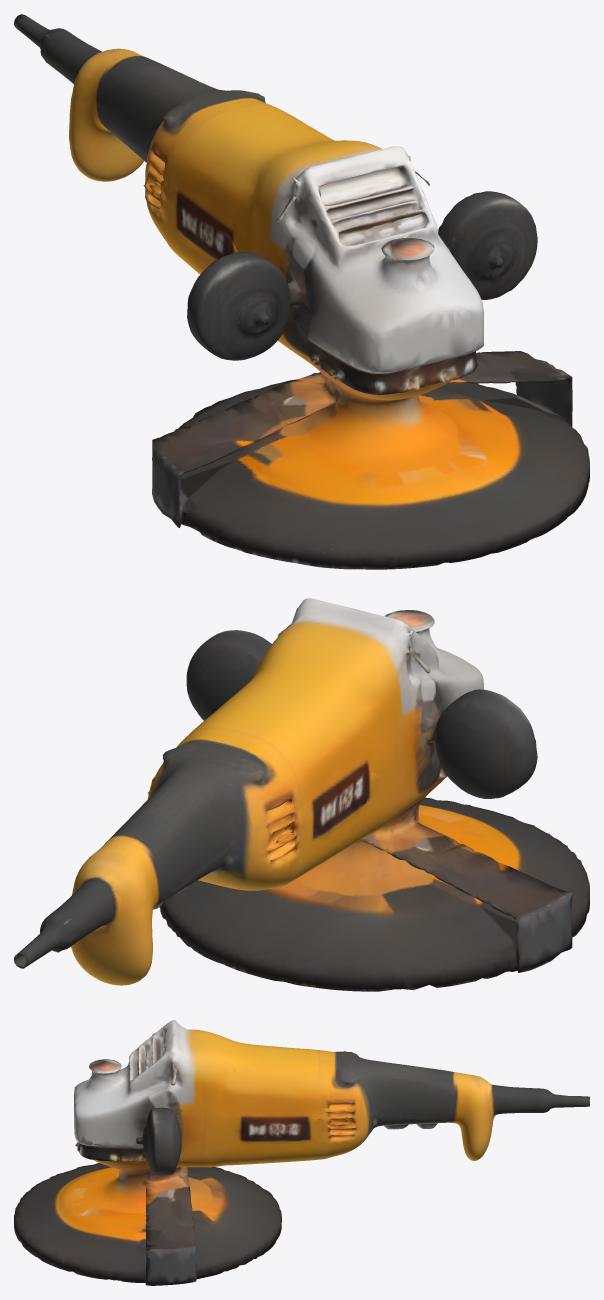
Rendered from tool_angle_grinder.glb.
3 renders of one model, top to bottom at view 1: azimuth 30°, elevation 25°; view 2: azimuth 150°, elevation 25°; view 3: azimuth 270°, elevation 25°, orthographic. The views are drawn at different scales.
Parts seen in each view (by area): view 1: model; view 2: model; view 3: model.
Part boxes in pixels (box(x1,y1,x2,y2)): model: box(14, 14, 589, 569); model: box(14, 598, 589, 991); model: box(14, 1020, 589, 1285).
Bounding box in the file's own units: 0.9376 × 0.7009 × 1.9.
1 material, 1 textured.
